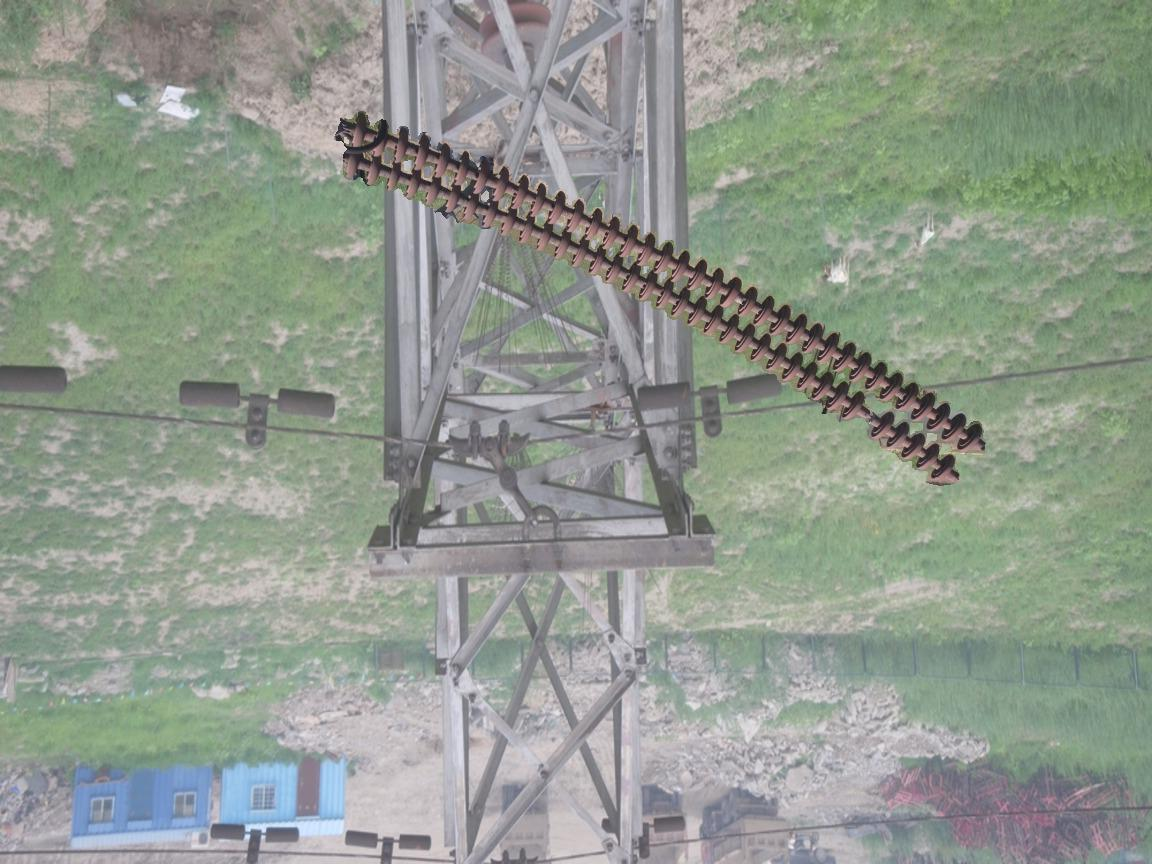insulator: (332, 110, 994, 491)
insulator_stringdrop: (838, 387, 898, 444)
